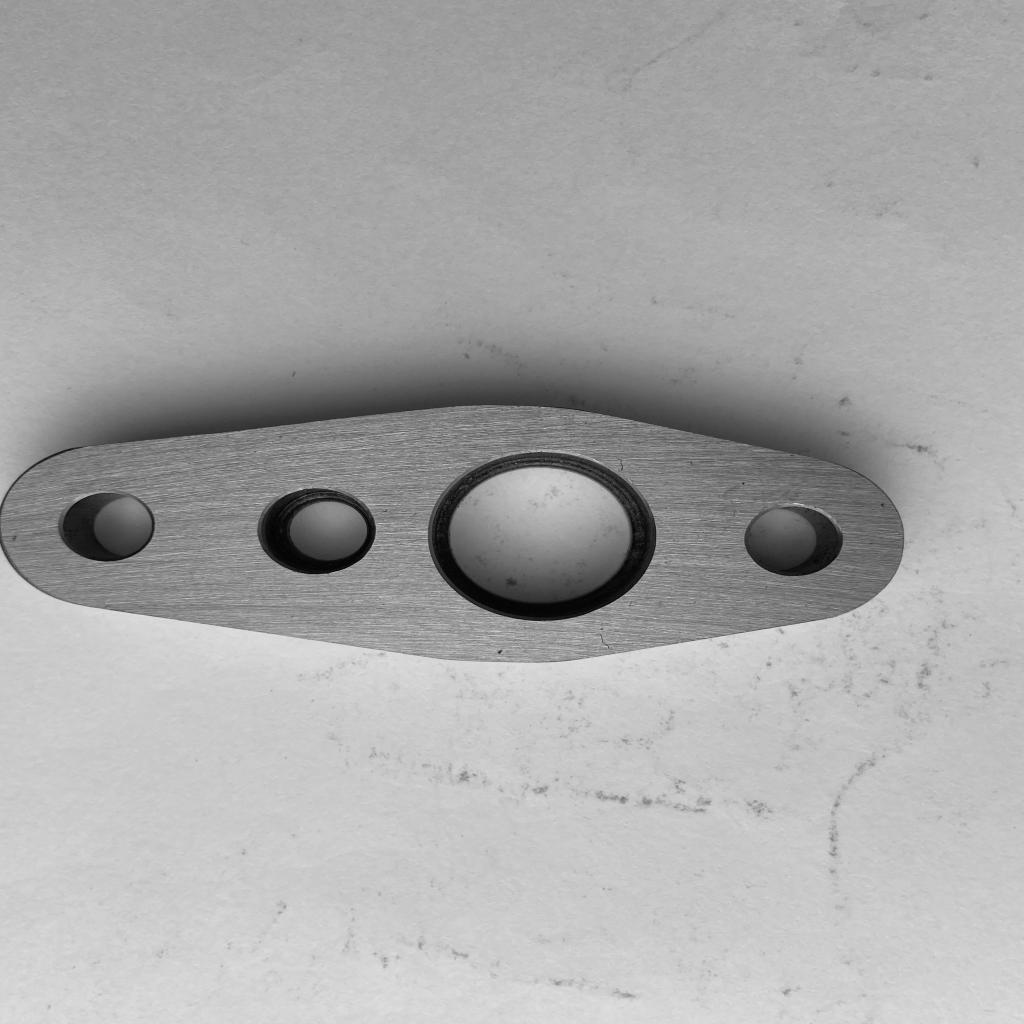chap: (493, 646, 508, 656)
lines: (592, 631, 610, 652), (617, 454, 626, 470)
